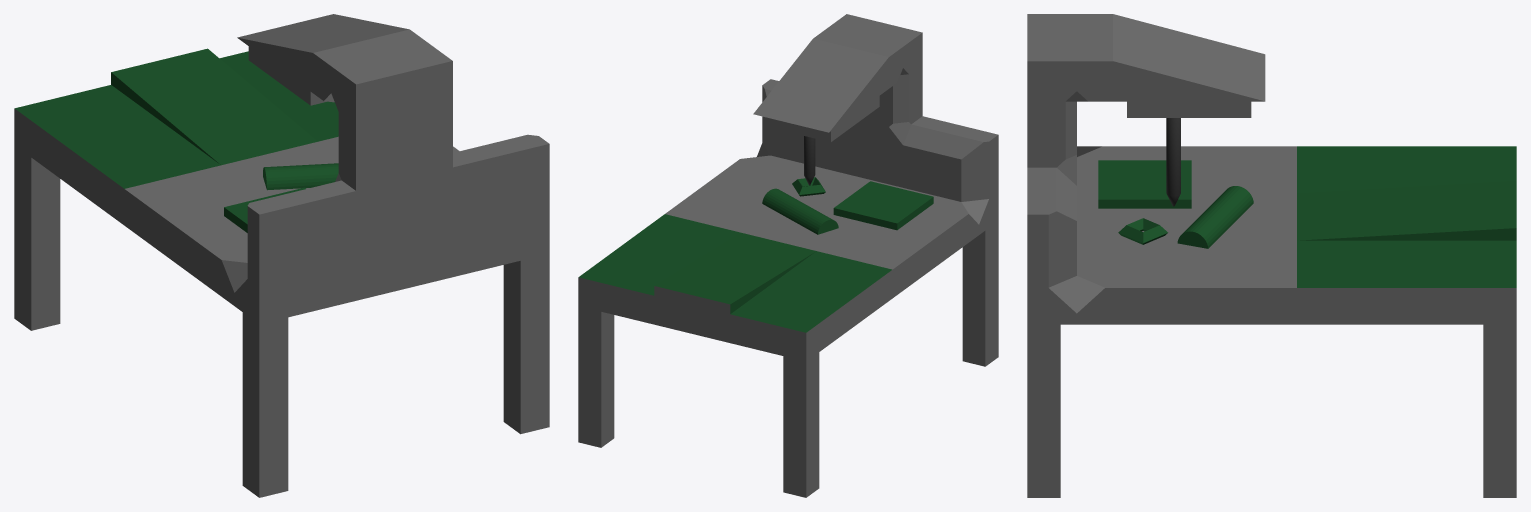
File: desk.fbx
3 renders of one model, left to right at view 1: azimuth 30°, elevation 25°; view 2: azimuth 150°, elevation 25°; view 3: azimuth 270°, elevation 25°, orthographic. The views are drawn at different scales.
Visible parts, largest first — view 1: Cube, Cube.001, Cube.002; view 2: Cube, Cube.002, Cube.001, Cylinder; view 3: Cube, Cube.001, Cube.002, Cylinder.
Boxes of the visible parts, x1,y1,x2,y2 form: Cube: (14,14,549,324); Cube.001: (242,253,549,497); Cube.002: (14,145,60,330); Cube: (578,14,998,361); Cube.002: (578,306,819,497); Cube.001: (962,221,998,366); Cylinder: (804,136,815,185); Cube: (1027,14,1516,324); Cube.001: (1027,324,1060,497); Cube.002: (1483,324,1516,497); Cylinder: (1166,118,1180,206).
Bounding box in the file's own units: 200 × 257 × 292.
